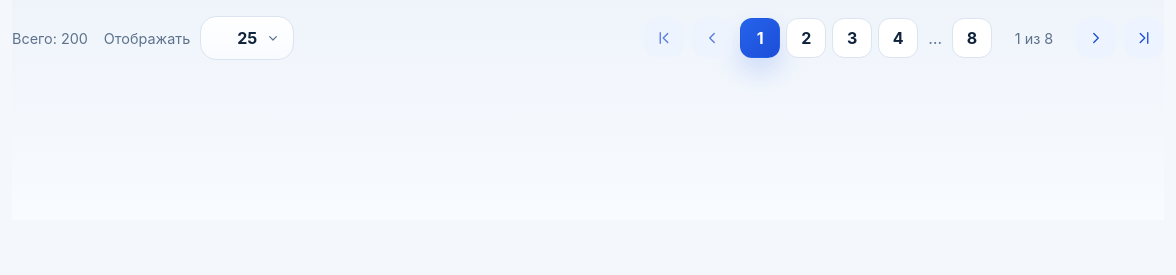
Pagination › opens page size menu and selects a new page size
Click the button "25": [247, 38] box [200, 16, 294, 60]
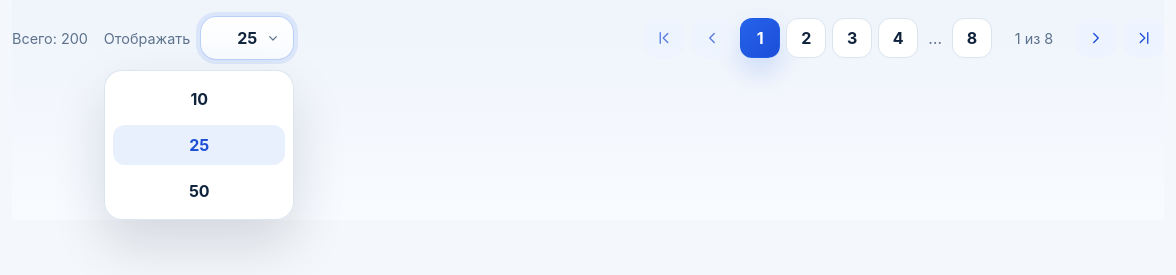
Click the option "50": [199, 191] box [113, 171, 285, 211]
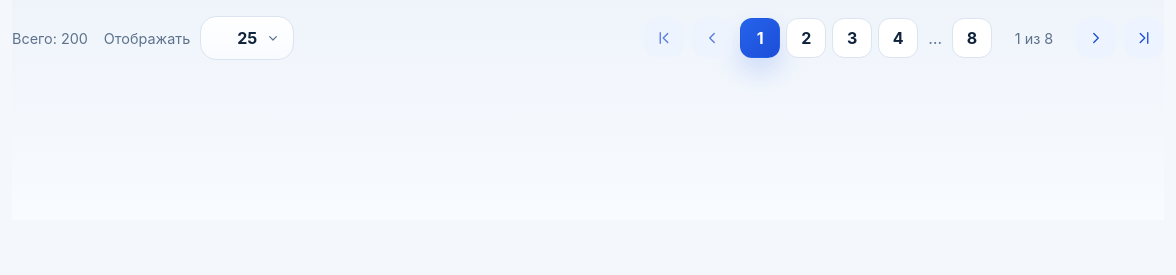
Result: the list is gone
